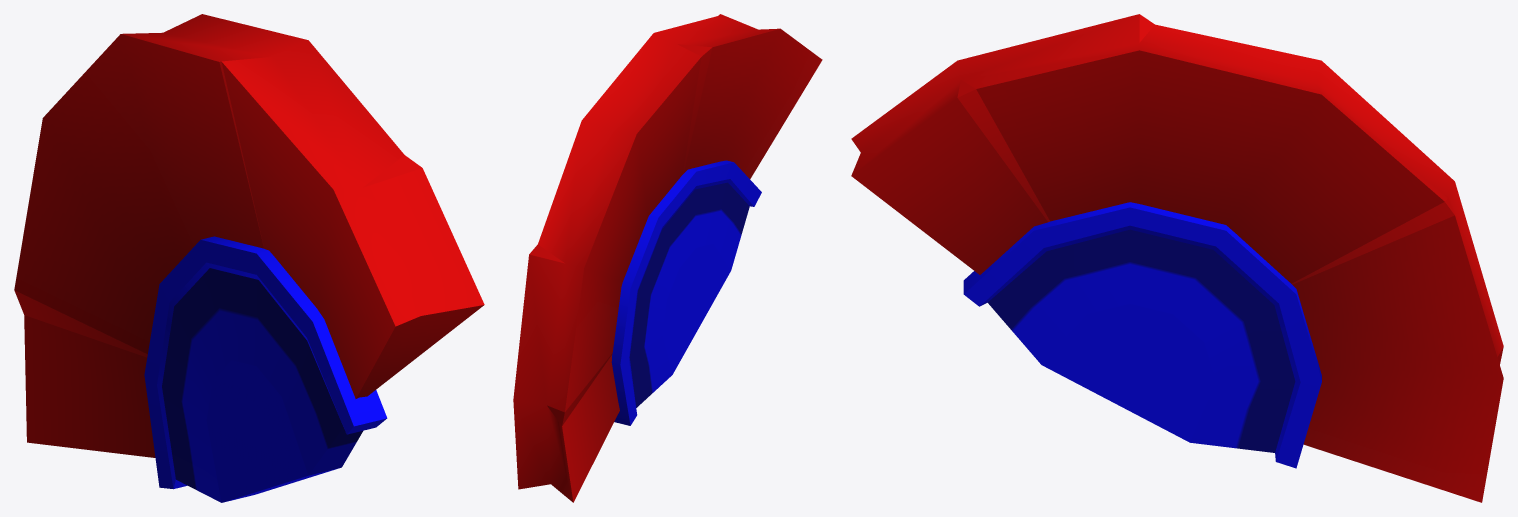
Rendered from PlumeHorseHair_AddOn.fbx.
3 renders of one model, left to right at view 1: azimuth 30°, elevation 25°; view 2: azimuth 150°, elevation 25°; view 3: azimuth 270°, elevation 25°, orthographic. The views are drawn at different scales.
Visible parts, largest first — view 1: PlumeHorseHair_AddOn; view 2: PlumeHorseHair_AddOn; view 3: PlumeHorseHair_AddOn.
Boxes of the visible parts, x1,y1,x2,y2 form: PlumeHorseHair_AddOn: (14, 14, 484, 502); PlumeHorseHair_AddOn: (513, 14, 822, 502); PlumeHorseHair_AddOn: (851, 14, 1503, 502).
Bounding box in the file's own units: 5.79 × 30.91 × 40.39.
